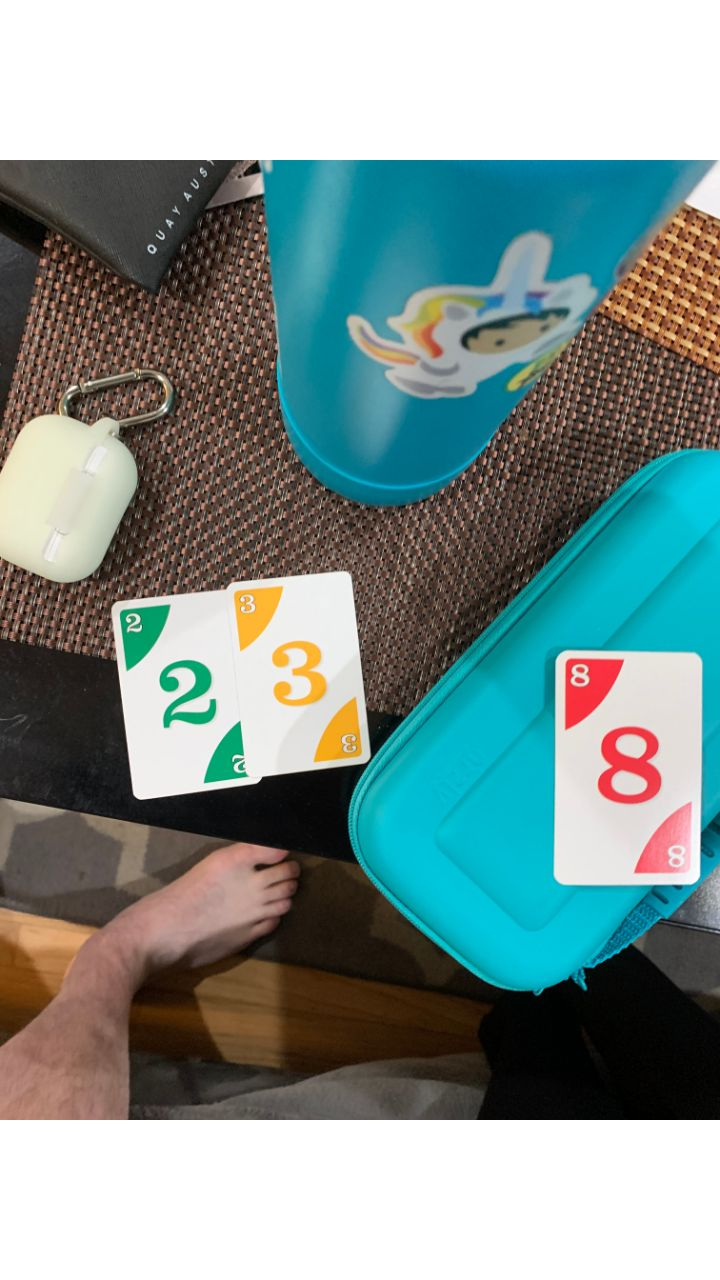eight: (552, 646, 705, 884)
three: (228, 571, 373, 783)
two: (107, 585, 266, 803)
